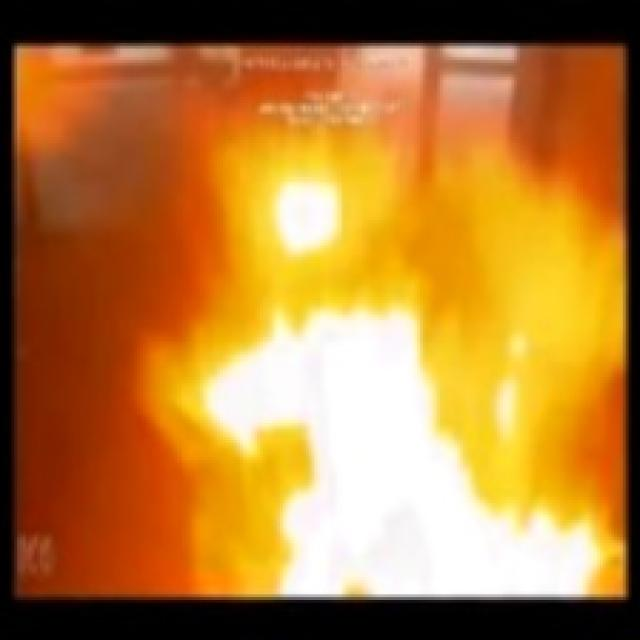fire: (119, 110, 610, 601)
